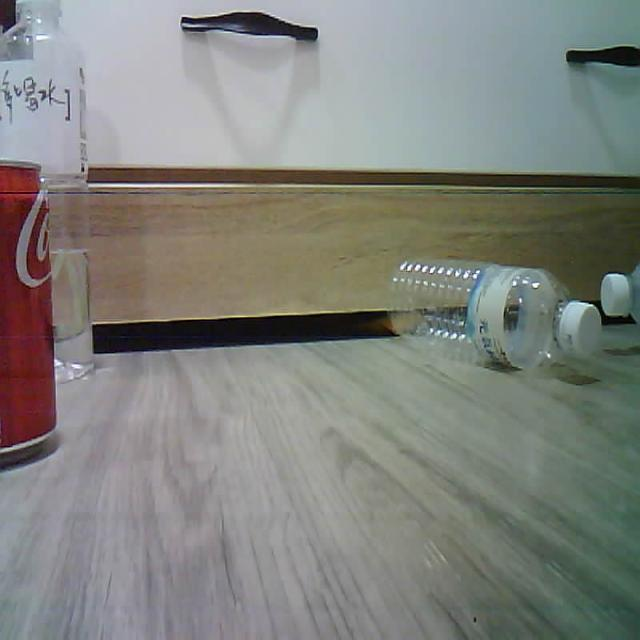bottle: (0, 0, 93, 381), (389, 258, 601, 368), (0, 0, 88, 212)
